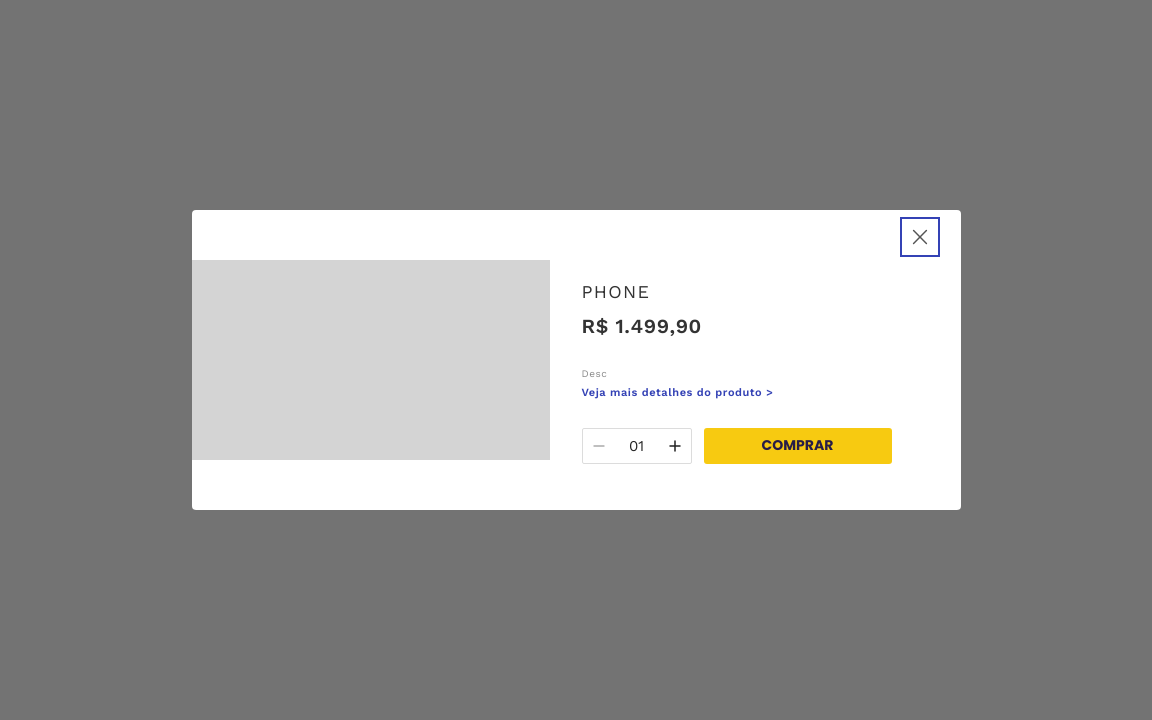
Scenario: ProductModal › aumenta a quantidade ao clicar no botão de mais
Click the button named "Aumentar quantidade": [674, 446] box [664,436,684,456]
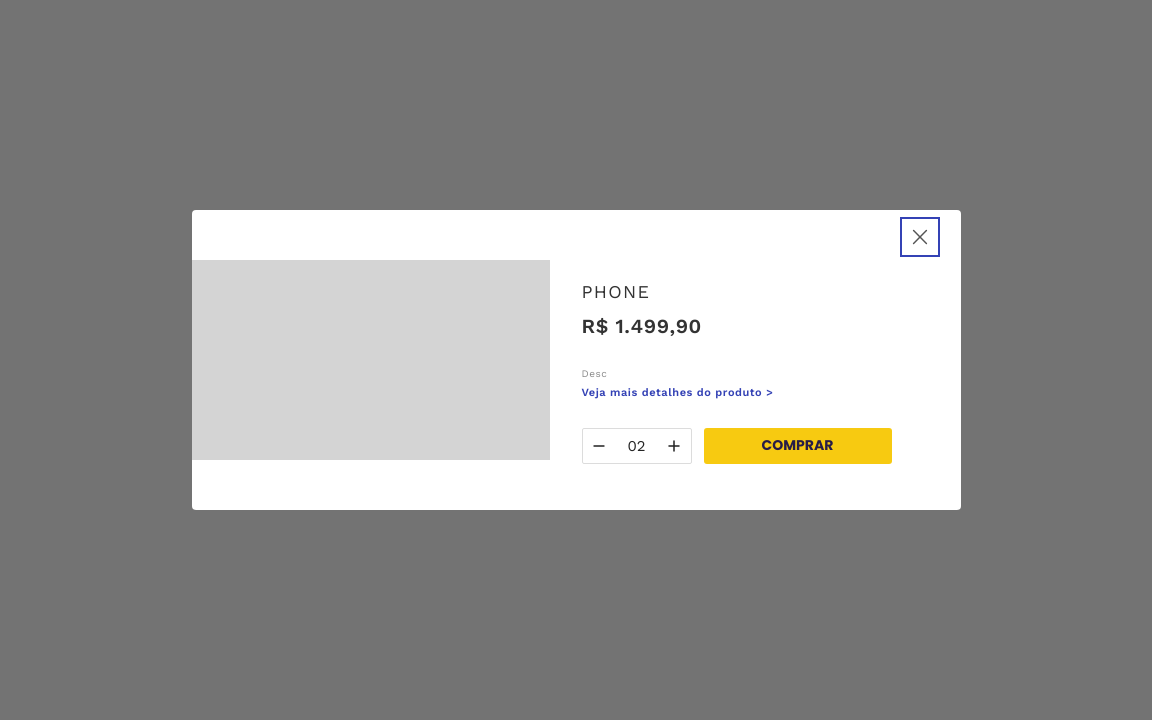
Result: the text "02" is shown at [628,436,646,454]
